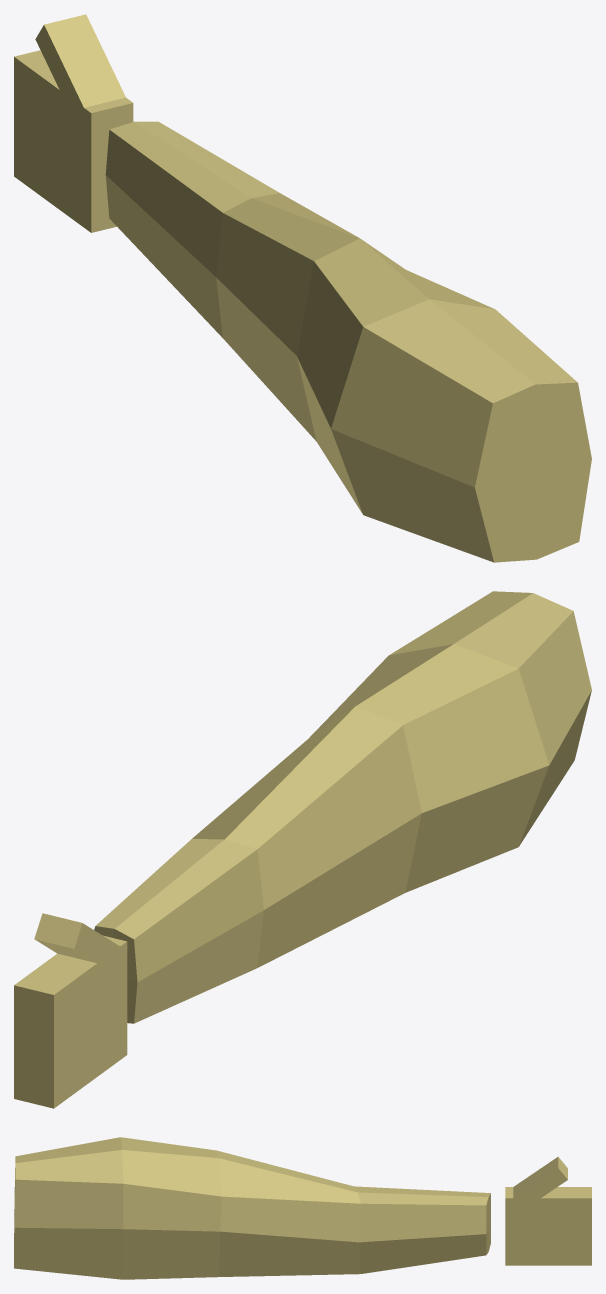
Rendered from Larm.fbx.
3 renders of one model, top to bottom at view 1: azimuth 30°, elevation 25°; view 2: azimuth 150°, elevation 25°; view 3: azimuth 270°, elevation 25°, orthographic. The views are drawn at different scales.
Parts seen in each view (by area): view 1: Larm; view 2: Larm; view 3: Larm.
Part boxes in pixels (x1,y1,x2,y2): Larm: (14,14,591,562); Larm: (14,591,591,1108); Larm: (14,1137,591,1279).
Size of the model in its own units: 73.82 by 80.41 by 362.
